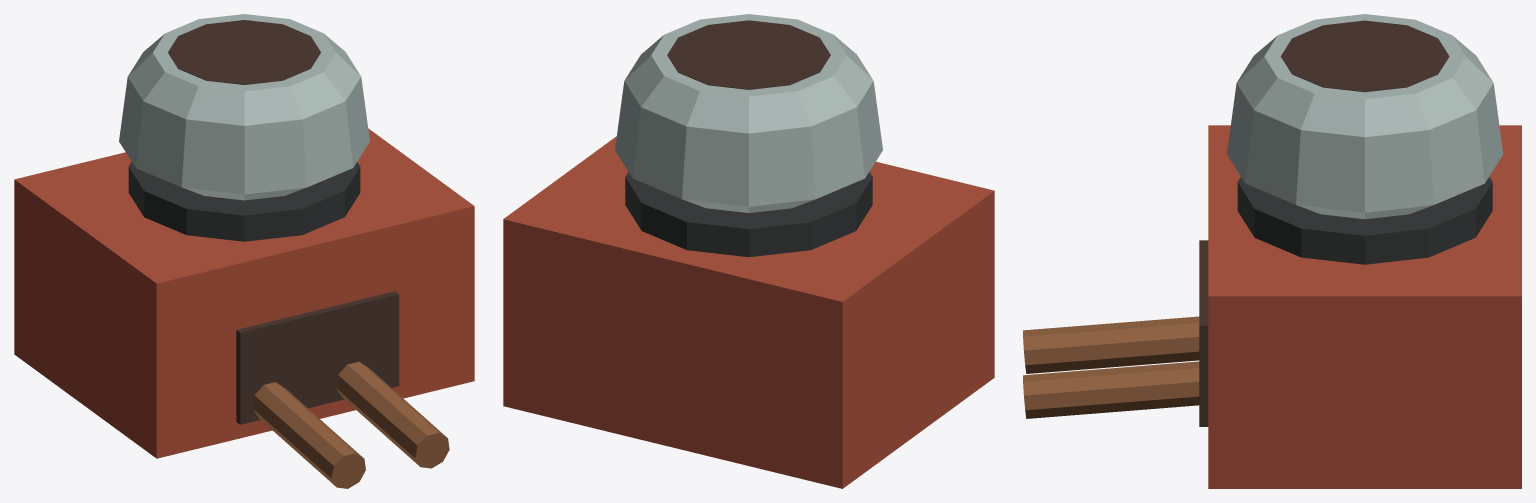
The model's file is 070_clay_cooking_hearth.glb.
3 views of the same model, side by side, from view 1: azimuth 30°, elevation 25°; view 2: azimuth 150°, elevation 25°; view 3: azimuth 270°, elevation 25° (orthographic). The views are drawn at different scales.
Parts seen in each view (by area): view 1: Clay cooking hearth; view 2: Clay cooking hearth; view 3: Clay cooking hearth.
Boxes of the visible parts, bbox=[...] form: Clay cooking hearth: bbox=[14, 14, 474, 488]; Clay cooking hearth: bbox=[503, 14, 994, 488]; Clay cooking hearth: bbox=[1023, 14, 1521, 488].
Bounding box in the file's own units: 0.76 × 0.721 × 0.9384.
